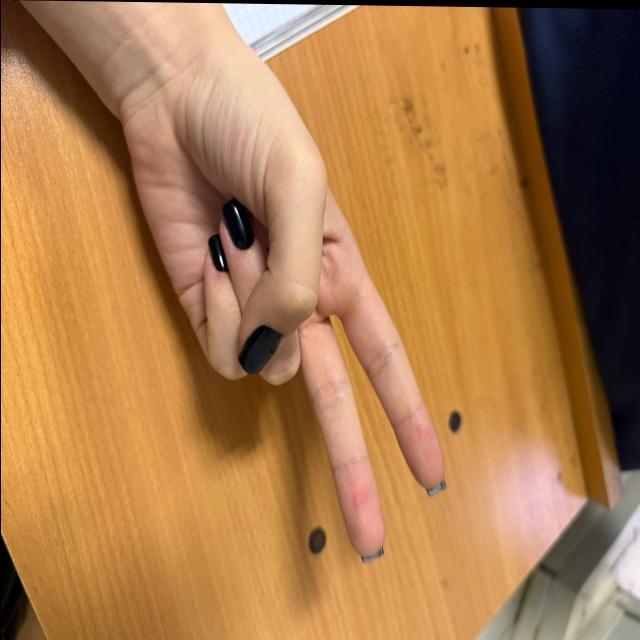k: (134, 86, 468, 563)
